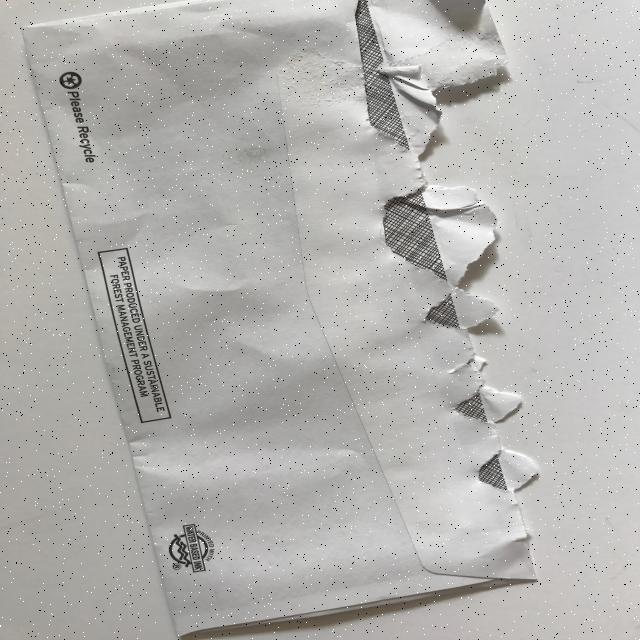paper: (9, 1, 636, 638)
